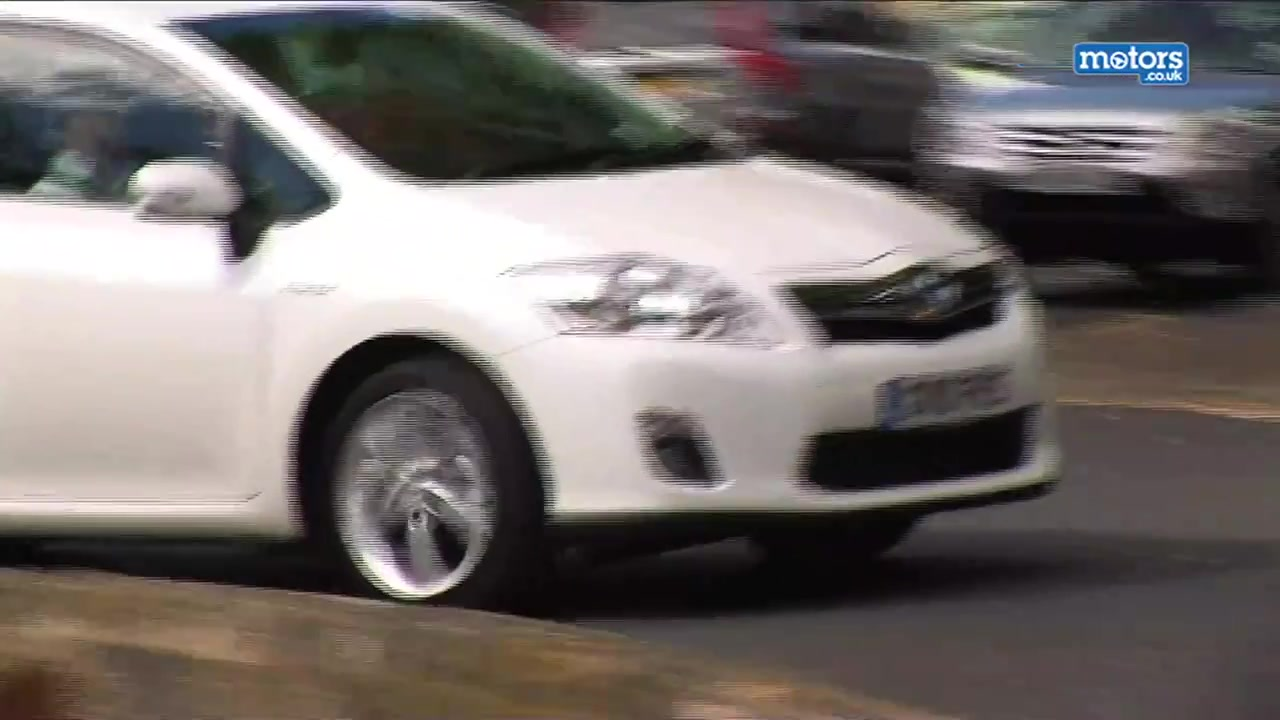car: (1, 3, 1065, 602), (919, 1, 1280, 272), (547, 1, 932, 175)
